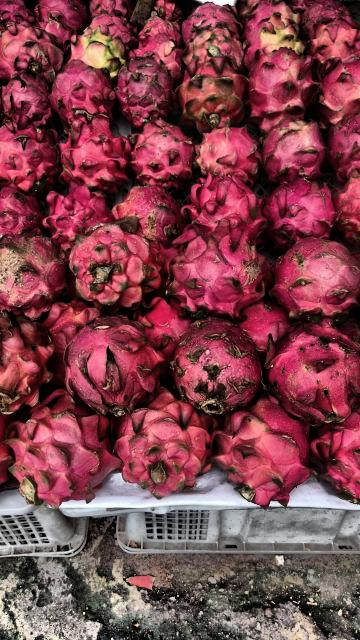buah-naga-belum-matang: (224, 404, 312, 506), (77, 222, 163, 308), (0, 232, 68, 314), (179, 59, 243, 128), (258, 124, 330, 182), (0, 23, 64, 81), (197, 125, 256, 183), (312, 56, 360, 124), (64, 23, 122, 79), (184, 24, 246, 76), (246, 11, 306, 63), (308, 19, 360, 72), (133, 30, 183, 80)
buah-naga-matang: (116, 398, 218, 502), (168, 309, 262, 415), (19, 399, 115, 501), (272, 316, 360, 424), (65, 313, 161, 411), (278, 226, 360, 328), (175, 230, 266, 316), (190, 164, 262, 250), (61, 110, 131, 194), (270, 168, 336, 252), (130, 110, 197, 192), (0, 312, 54, 412), (308, 407, 360, 505), (250, 47, 310, 129), (39, 177, 108, 245), (2, 119, 60, 199), (52, 57, 118, 126), (121, 180, 189, 243), (120, 54, 174, 128), (1, 70, 57, 134), (0, 182, 42, 238), (330, 114, 360, 180)
